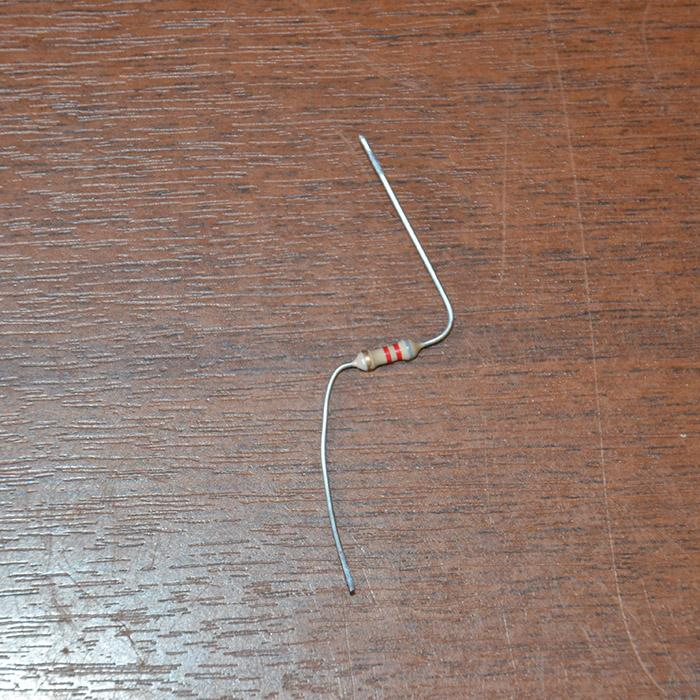resistor: (355, 338, 417, 371)
